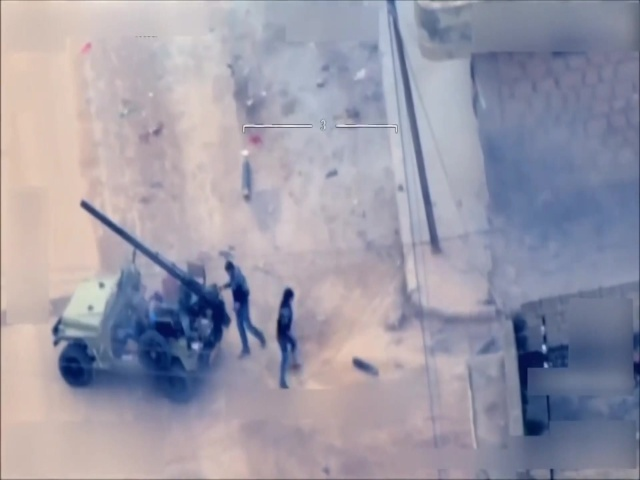person: (221, 258, 268, 358), (272, 284, 304, 391)
vehicle: (51, 267, 230, 401)
